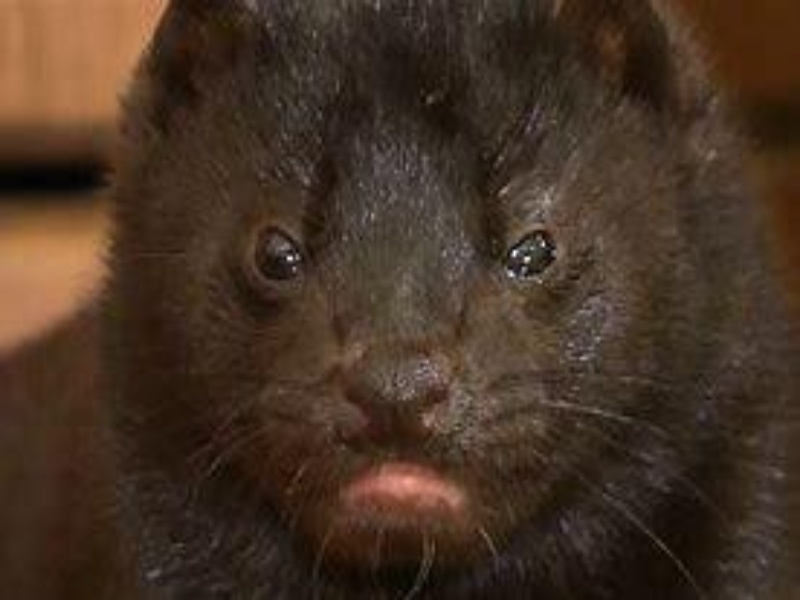minkish: (103, 1, 786, 590)
